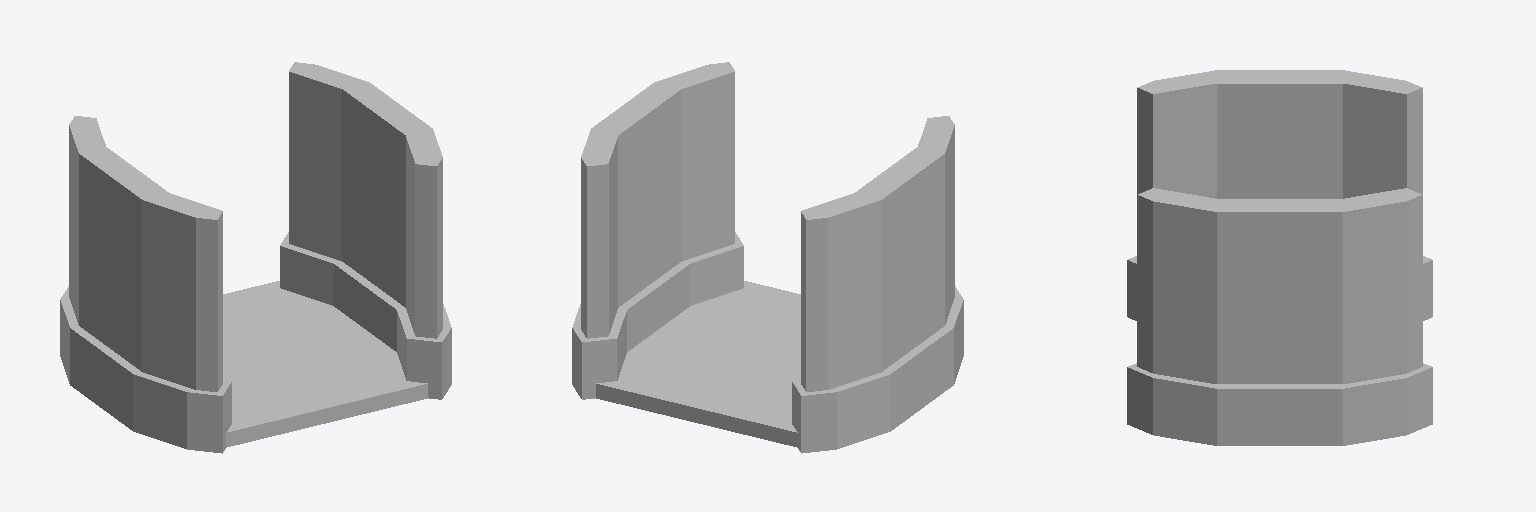
Rendered from sm_hallway_01.obj.
3 views of the same model, side by side, from view 1: azimuth 30°, elevation 25°; view 2: azimuth 150°, elevation 25°; view 3: azimuth 270°, elevation 25° (orthographic).
Parts seen in each view (by area): view 1: wall_03_165, wall_03_166, floor_14_164; view 2: wall_03_165, wall_03_166, floor_14_164; view 3: wall_03_166, wall_03_165.
Part boxes in pixels (x1,y1,x2,y2): wall_03_165: (60,116,231,453); wall_03_166: (280,62,451,399); floor_14_164: (223,281,427,447); wall_03_165: (792,116,963,453); wall_03_166: (572,62,743,399); floor_14_164: (596,281,800,447); wall_03_166: (1127,188,1432,445); wall_03_165: (1127,70,1432,320).
Bounding box in the file's own units: 1.41 × 1 × 1.21.